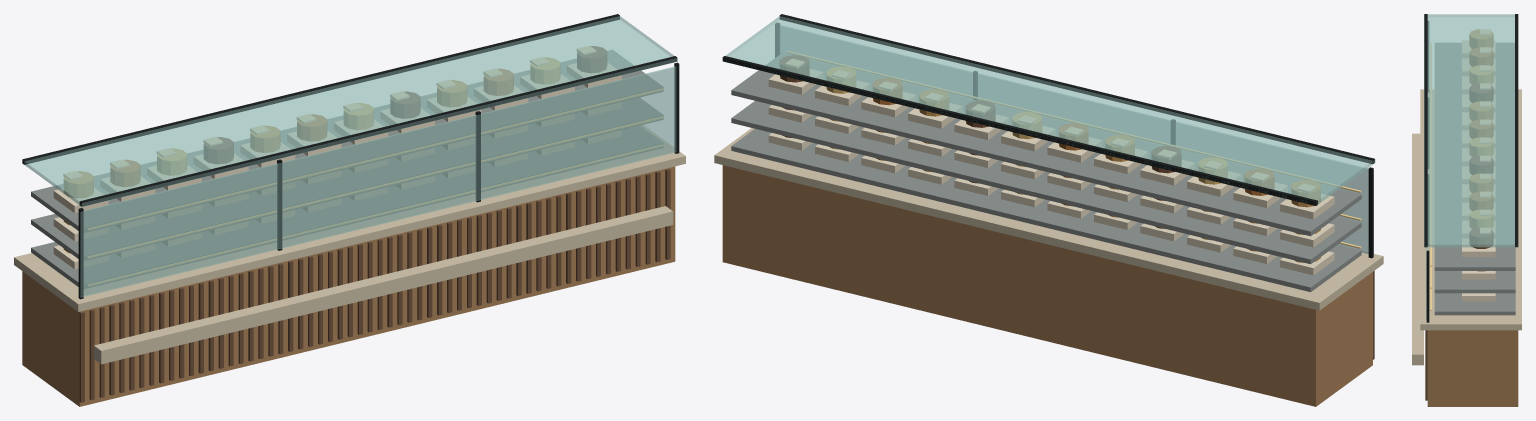
The model's file is good.glb.
3 views of the same model, side by side, from view 1: azimuth 30°, elevation 25°; view 2: azimuth 150°, elevation 25°; view 3: azimuth 270°, elevation 25° (orthographic). The views are drawn at different scales.
Visible parts, largest first — view 1: starbucksDisplay_181, starbucksDisplay_182, starbucksDisplay_0, starbucksDisplay_139, starbucksDisplay_61, starbucksDisplay_63, starbucksDisplay_101, starbucksDisplay_62, starbucksDisplay_184, starbucksDisplay_183, starbucksDisplay_138, starbucksDisplay_100 (+13 smaller); view 2: starbucksDisplay_0, starbucksDisplay_182, starbucksDisplay_139, starbucksDisplay_181, starbucksDisplay_63, starbucksDisplay_101, starbucksDisplay_61, starbucksDisplay_183, starbucksDisplay_184, starbucksDisplay_176, starbucksDisplay_140, starbucksDisplay_102 (+12 smaller); view 3: starbucksDisplay_182, starbucksDisplay_139, starbucksDisplay_0, starbucksDisplay_61, starbucksDisplay_62, starbucksDisplay_63, starbucksDisplay_101, starbucksDisplay_183, starbucksDisplay_184, starbucksDisplay_176, starbucksDisplay_173, starbucksDisplay_174 (+26 smaller).
Part boxes in pixels (left/top/right/bottom): starbucksDisplay_181: left=80, top=66, right=676, bottom=297; starbucksDisplay_182: left=24, top=16, right=677, bottom=206; starbucksDisplay_0: left=22, top=166, right=675, bottom=406; starbucksDisplay_139: left=31, top=50, right=663, bottom=232; starbucksDisplay_61: left=14, top=125, right=685, bottom=311; starbucksDisplay_63: left=31, top=126, right=663, bottom=288; starbucksDisplay_101: left=31, top=98, right=663, bottom=260; starbucksDisplay_62: left=94, top=206, right=673, bottom=364; starbucksDisplay_184: left=79, top=56, right=677, bottom=206; starbucksDisplay_183: left=22, top=14, right=619, bottom=164; starbucksDisplay_138: left=87, top=116, right=663, bottom=258; starbucksDisplay_100: left=87, top=144, right=663, bottom=286; starbucksDisplay_0: left=722, top=165, right=1372, bottom=406; starbucksDisplay_182: left=725, top=16, right=1375, bottom=204; starbucksDisplay_139: left=731, top=53, right=1361, bottom=236; starbucksDisplay_181: left=780, top=25, right=1373, bottom=254; starbucksDisplay_63: left=731, top=128, right=1361, bottom=292; starbucksDisplay_101: left=731, top=101, right=1361, bottom=264; starbucksDisplay_61: left=714, top=128, right=1383, bottom=310; starbucksDisplay_183: left=722, top=56, right=1317, bottom=205; starbucksDisplay_184: left=779, top=14, right=1374, bottom=163; starbucksDisplay_176: left=787, top=51, right=1361, bottom=192; starbucksDisplay_140: left=1280, top=194, right=1334, bottom=219; starbucksDisplay_102: left=1280, top=223, right=1334, bottom=247; starbucksDisplay_182: left=1424, top=14, right=1517, bottom=247; starbucksDisplay_139: left=1434, top=43, right=1515, bottom=270; starbucksDisplay_0: left=1427, top=330, right=1518, bottom=406; starbucksDisplay_61: left=1420, top=89, right=1521, bottom=330; starbucksDisplay_62: left=1412, top=133, right=1423, bottom=365; starbucksDisplay_63: left=1434, top=293, right=1515, bottom=315; starbucksDisplay_101: left=1434, top=271, right=1515, bottom=293; starbucksDisplay_183: left=1515, top=14, right=1518, bottom=247; starbucksDisplay_184: left=1424, top=14, right=1427, bottom=247; starbucksDisplay_176: left=1430, top=43, right=1431, bottom=266; starbucksDisplay_173: left=1462, top=239, right=1495, bottom=257; starbucksDisplay_174: left=1469, top=228, right=1493, bottom=248.
Size of the model in its own units: 6.12 by 1.98 by 1.21.
